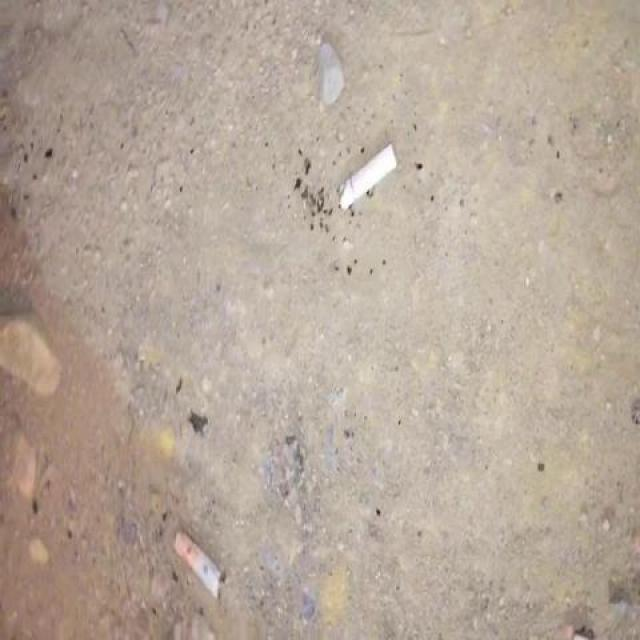non-organic waste: (168, 526, 236, 602), (336, 140, 401, 215)
